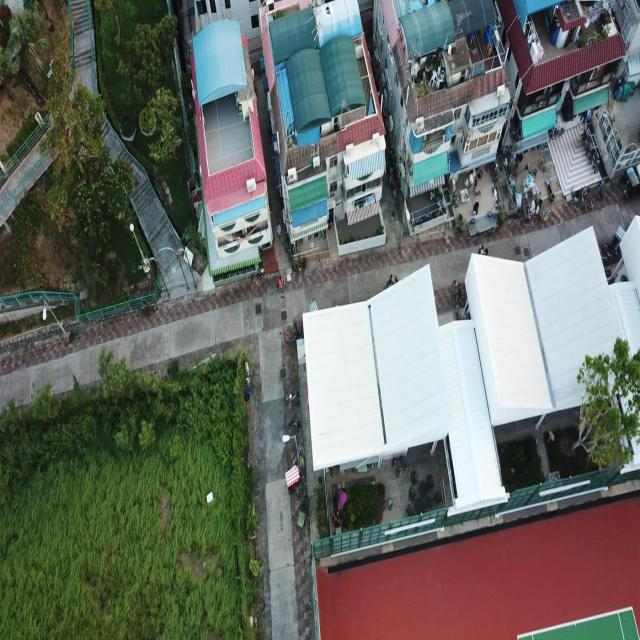tree: (571, 334, 640, 474)
